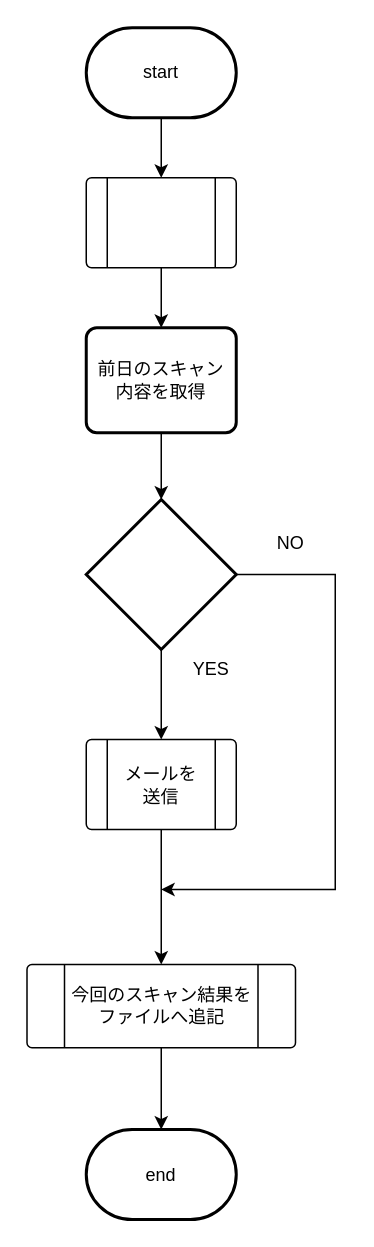
The diagram is 374 pixels wide and 1247 high, and some of its shapes have lost their labels. Each missing label, with the centre of its shape:
WiFiのAPリストを取得: the point at 160,222
新規APが あったか？: the point at 160,573
